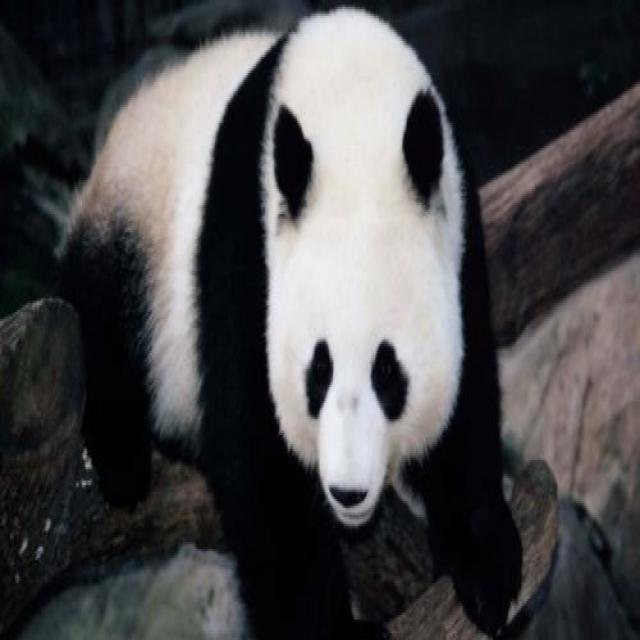panda: (49, 6, 525, 640)
